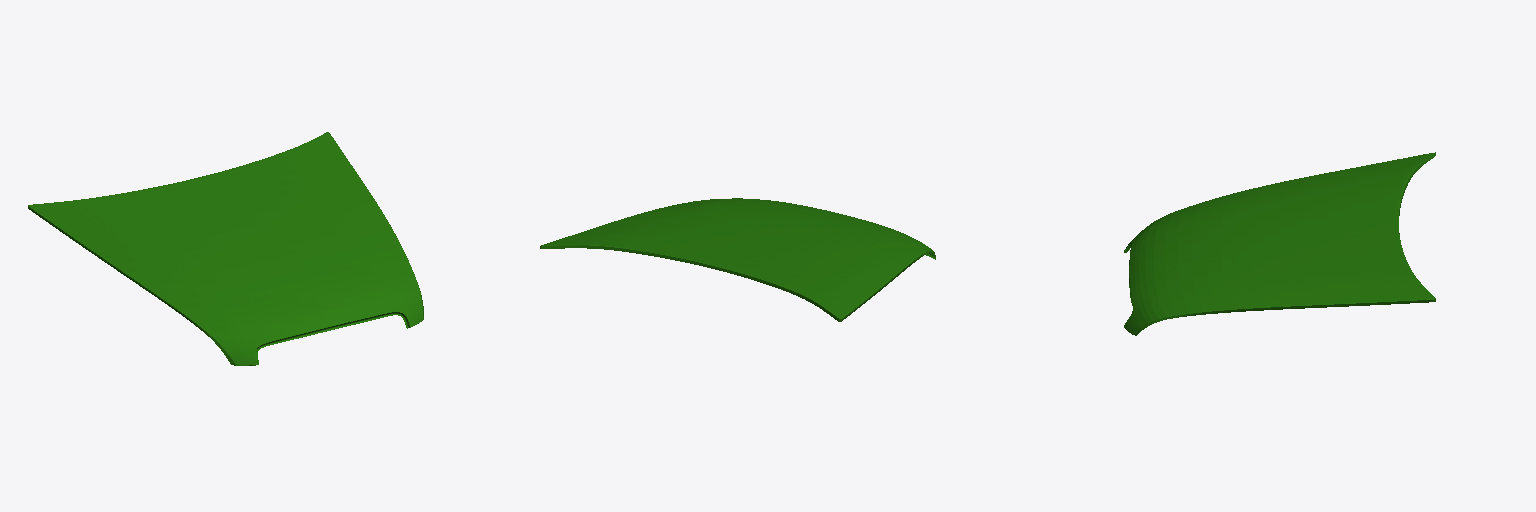
Rendered from cofre_coche.obj.
3 renders of one model, left to right at view 1: azimuth 30°, elevation 25°; view 2: azimuth 150°, elevation 25°; view 3: azimuth 270°, elevation 25°, orthographic.
Visible parts, largest first — view 1: Audi_A6.005; view 2: Audi_A6.005; view 3: Audi_A6.005.
Boxes of the visible parts, x1=… form: Audi_A6.005: x1=28, y1=132, x2=423, y2=365; Audi_A6.005: x1=540, y1=198, x2=935, y2=321; Audi_A6.005: x1=1124, y1=152, x2=1435, y2=335.
Bounding box in the file's own units: 24.19 × 5.33 × 21.78.